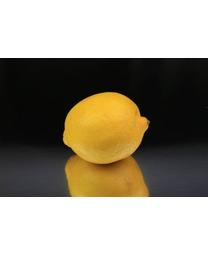lemon: (64, 92, 149, 164)
